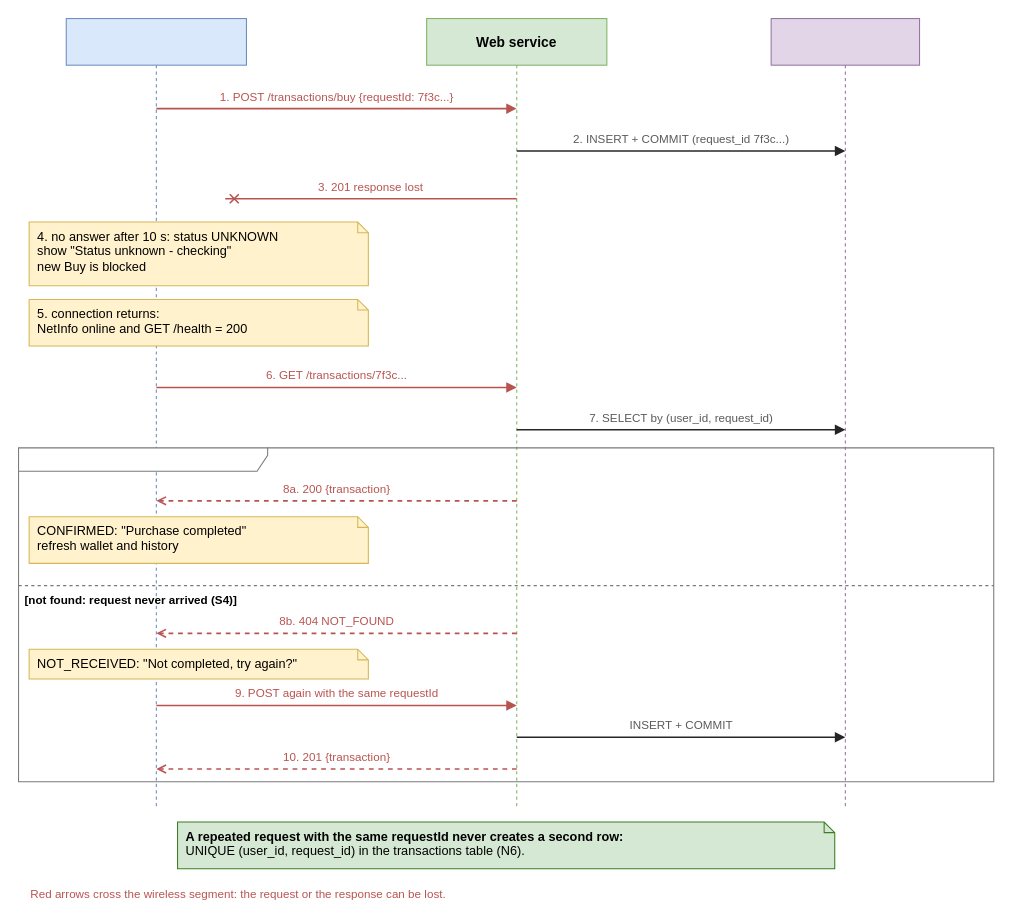
This 1013x921 diagram has some shape labels left out. Here are the shapes that lost their labels. From the top down, the box of each, then its label:
(65, 17, 246, 808): Mobile app
(770, 17, 920, 808): SQLite
(17, 447, 994, 782): alt [row found: server had committed (S5)]
